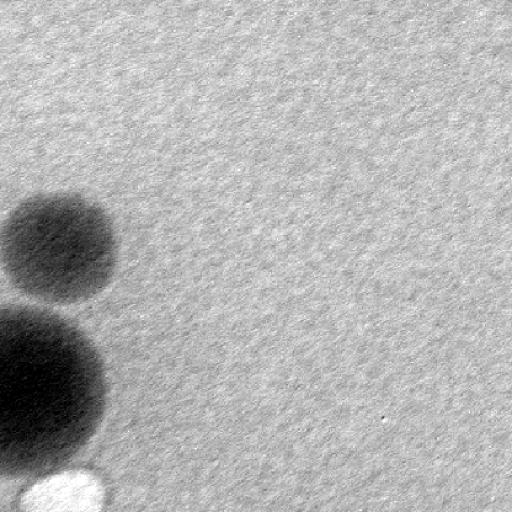Nanoparticles: (6, 312, 109, 474), (2, 192, 123, 307), (14, 506, 16, 507)
